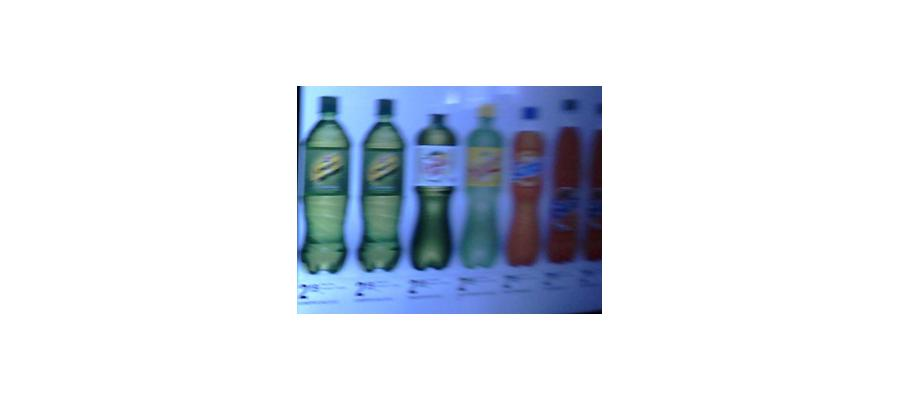bottle: (406, 114, 460, 277), (358, 100, 407, 276), (302, 103, 352, 275), (461, 103, 507, 272)
